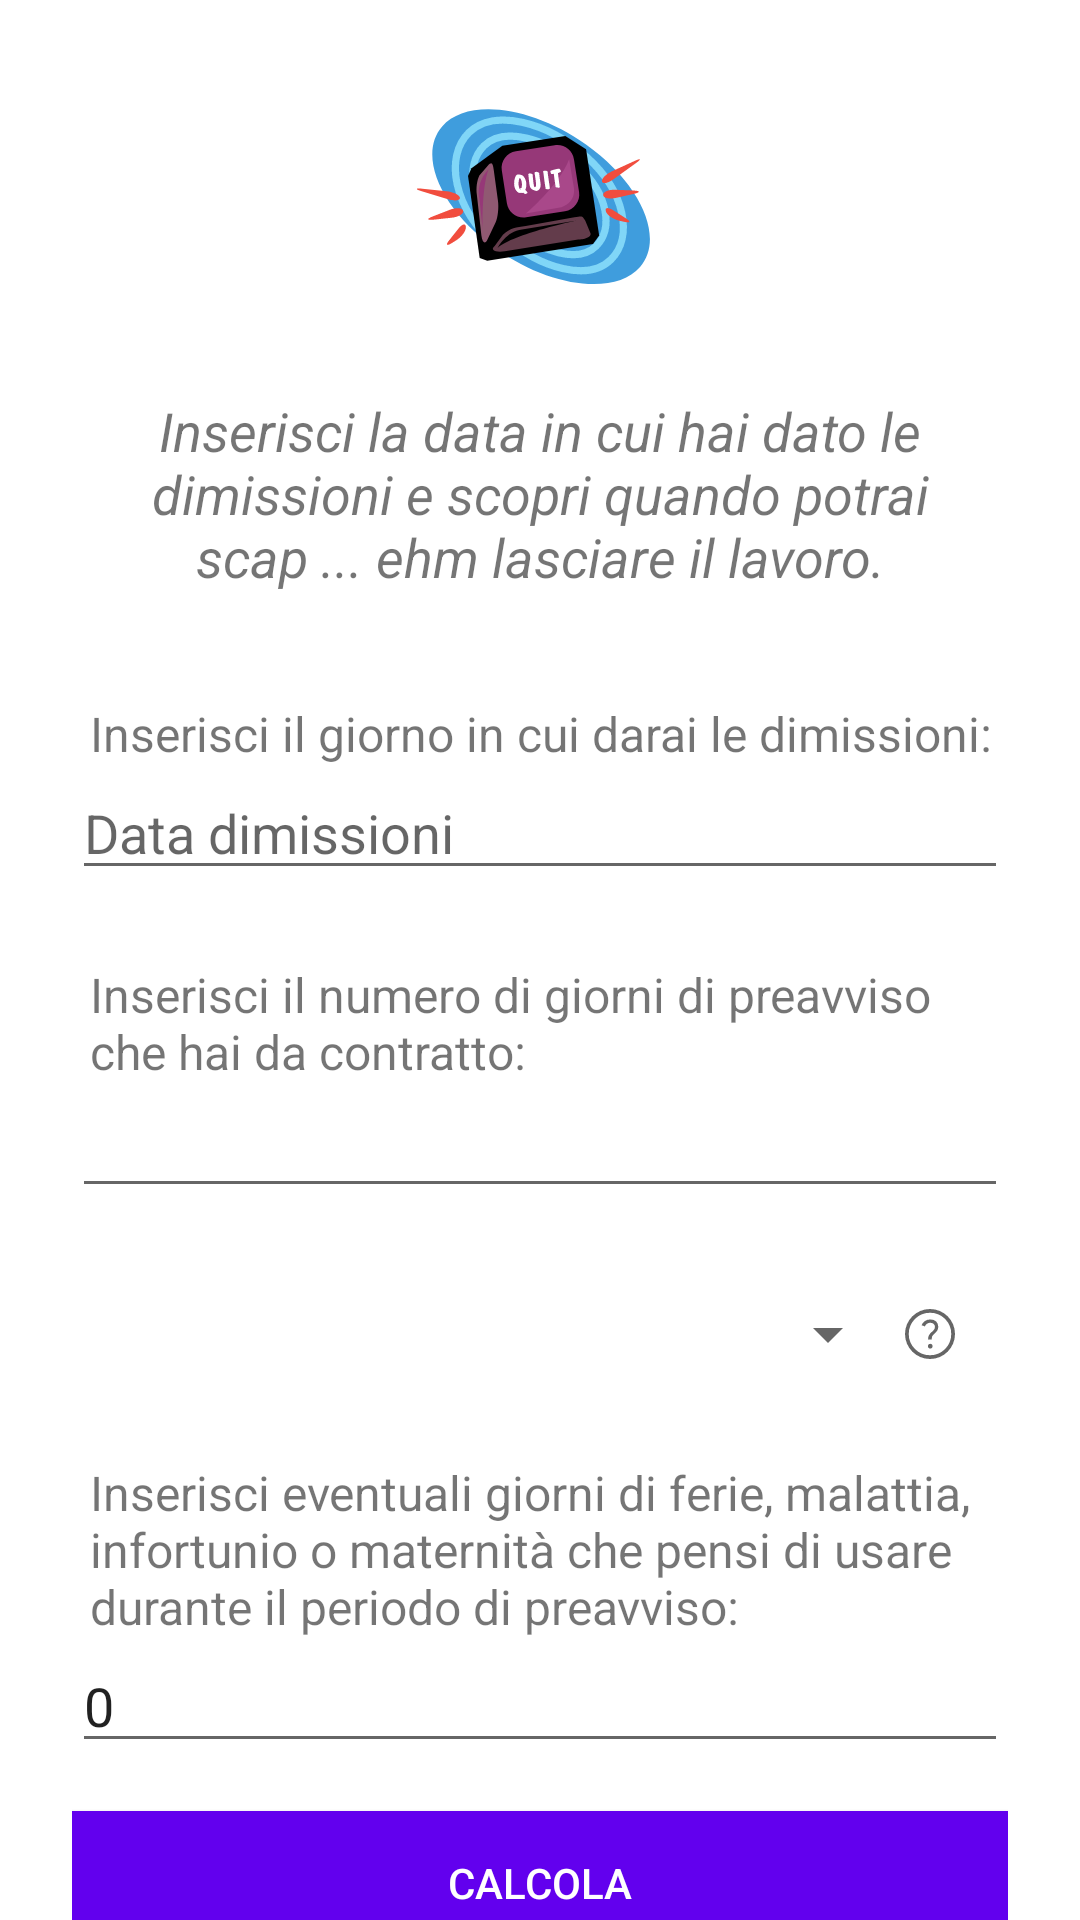

Icons on this 1080 x 1920 Android screen, each with its box as (x1, y1, x2, y2):
Info Icon: (905, 1309, 955, 1359)
